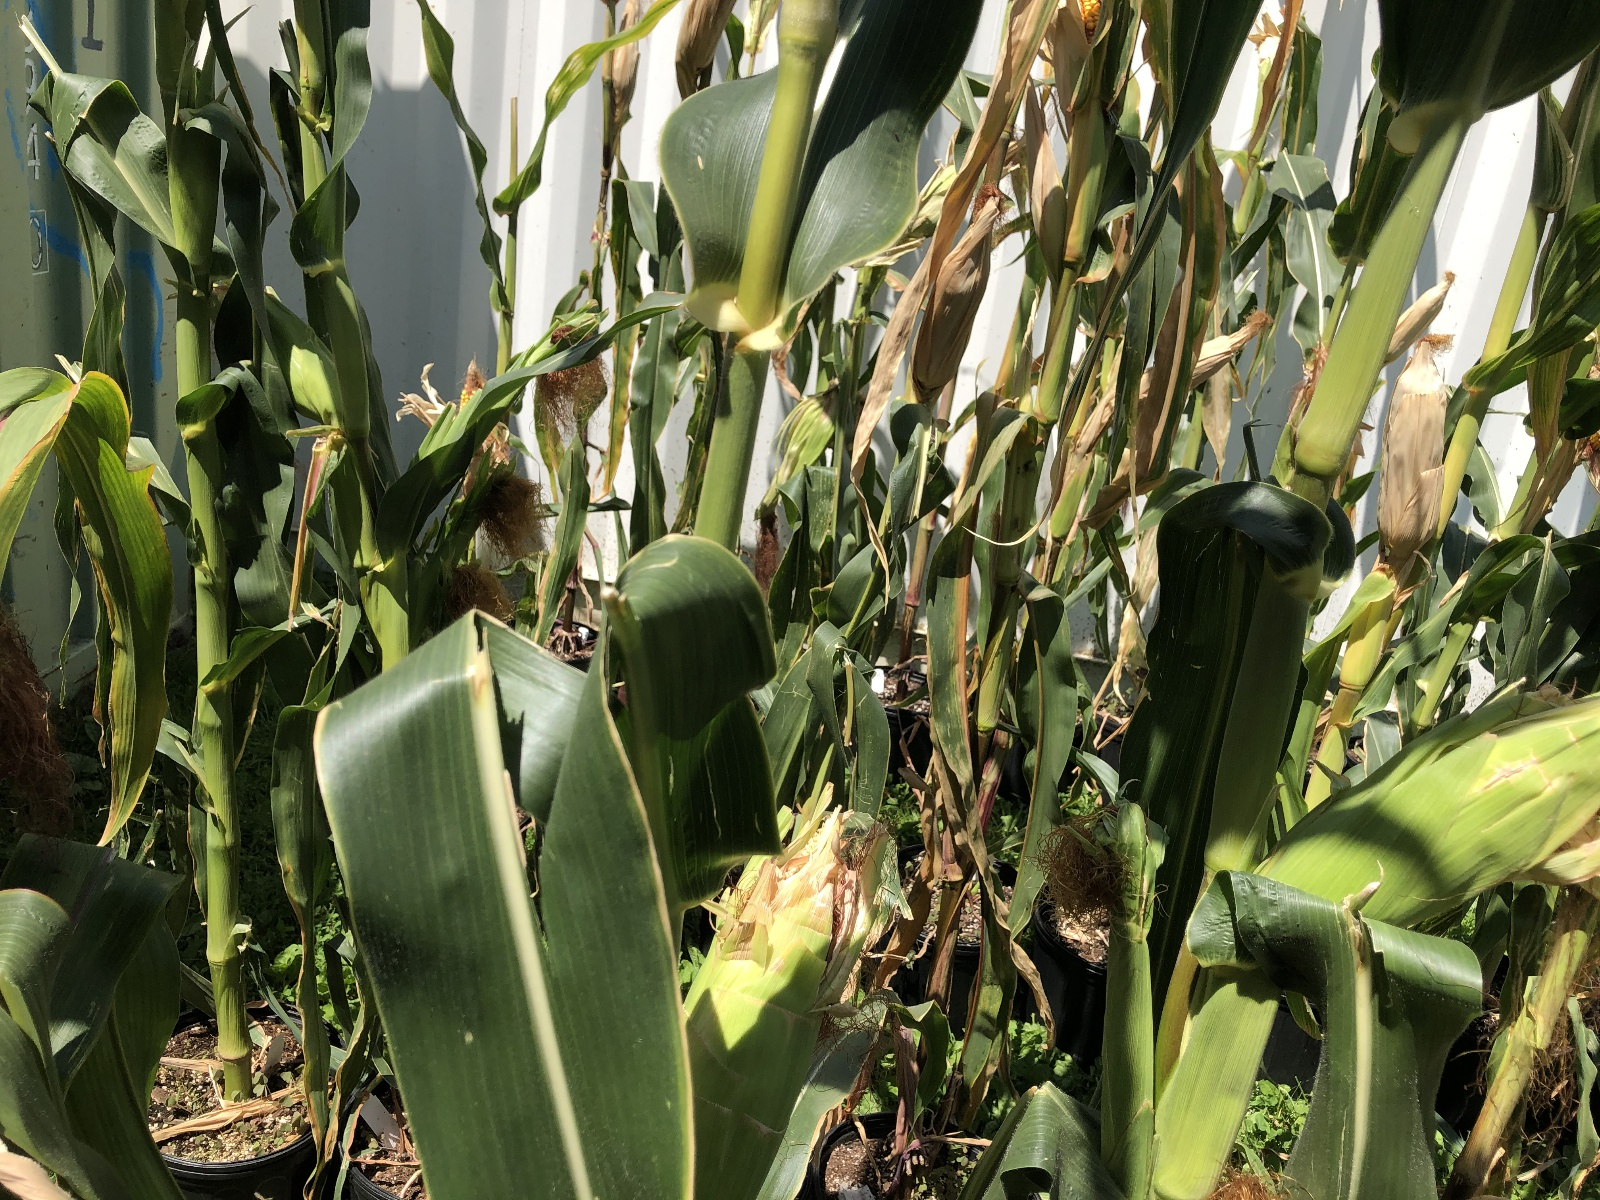ear: (1252, 661, 1596, 955), (687, 789, 853, 1139), (910, 178, 1010, 388), (1373, 332, 1453, 552), (1110, 304, 1272, 408), (1366, 266, 1464, 366), (1048, 3, 1104, 98), (609, 1, 643, 110), (447, 354, 493, 421)
